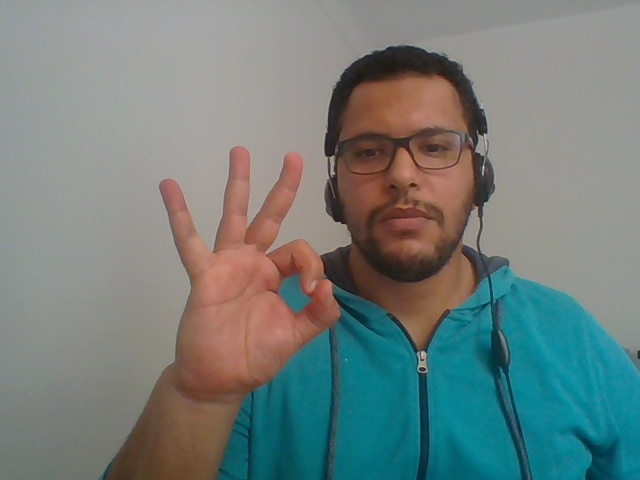okay: (137, 139, 348, 460)
